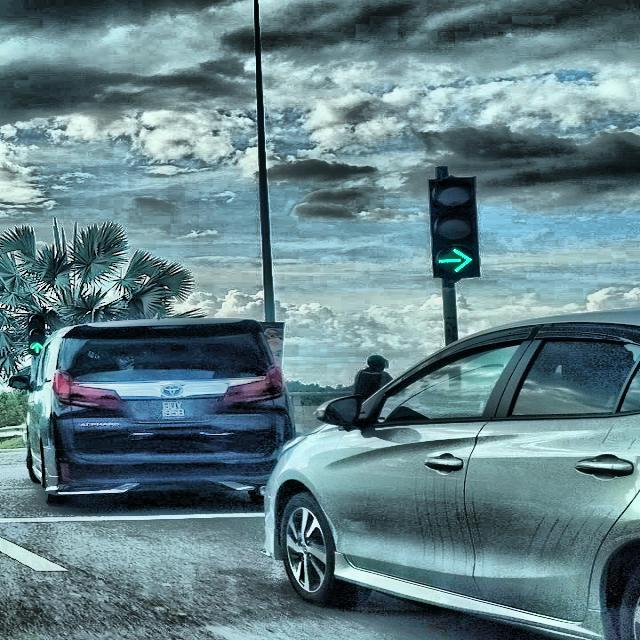green: (425, 178, 478, 278), (27, 313, 46, 353)
